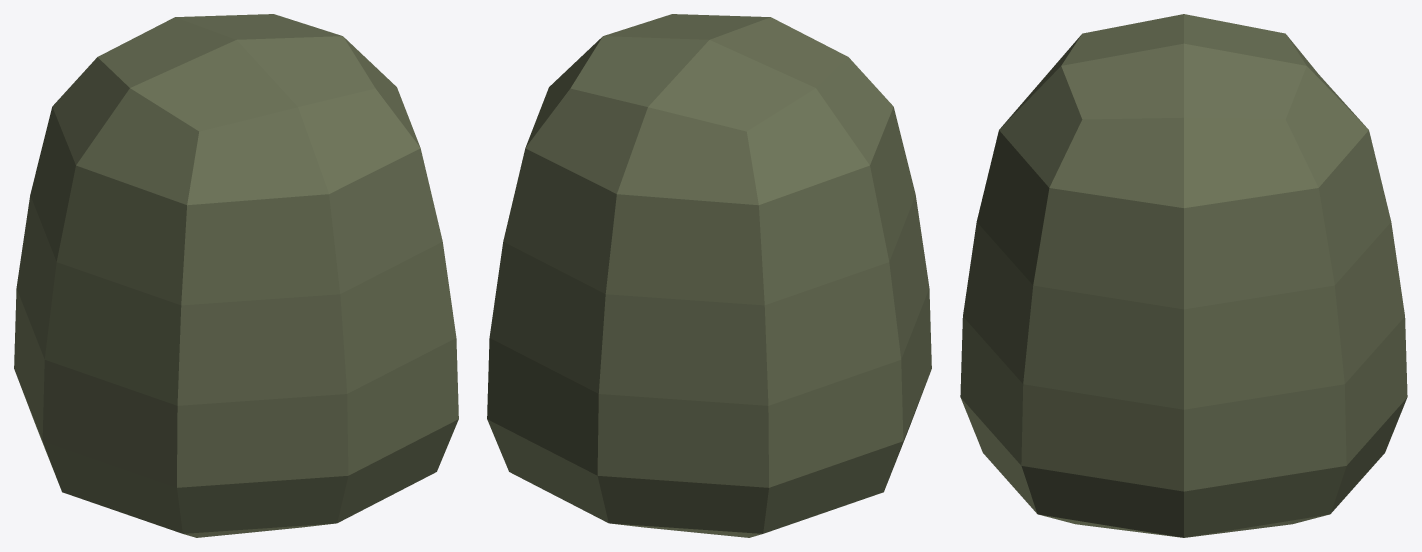
Rendered from Lettuce_Crop.glb.
3 views of the same model, side by side, from view 1: azimuth 30°, elevation 25°; view 2: azimuth 150°, elevation 25°; view 3: azimuth 270°, elevation 25° (orthographic).
Visible parts, largest first — view 1: Lettuce_Crop; view 2: Lettuce_Crop; view 3: Lettuce_Crop.
Part boxes in pixels (bbox=[...]): Lettuce_Crop: bbox=[14, 14, 458, 537]; Lettuce_Crop: bbox=[487, 14, 931, 537]; Lettuce_Crop: bbox=[960, 14, 1407, 537].
Bounding box in the file's own units: 0.3644 × 0.4038 × 0.3644.
